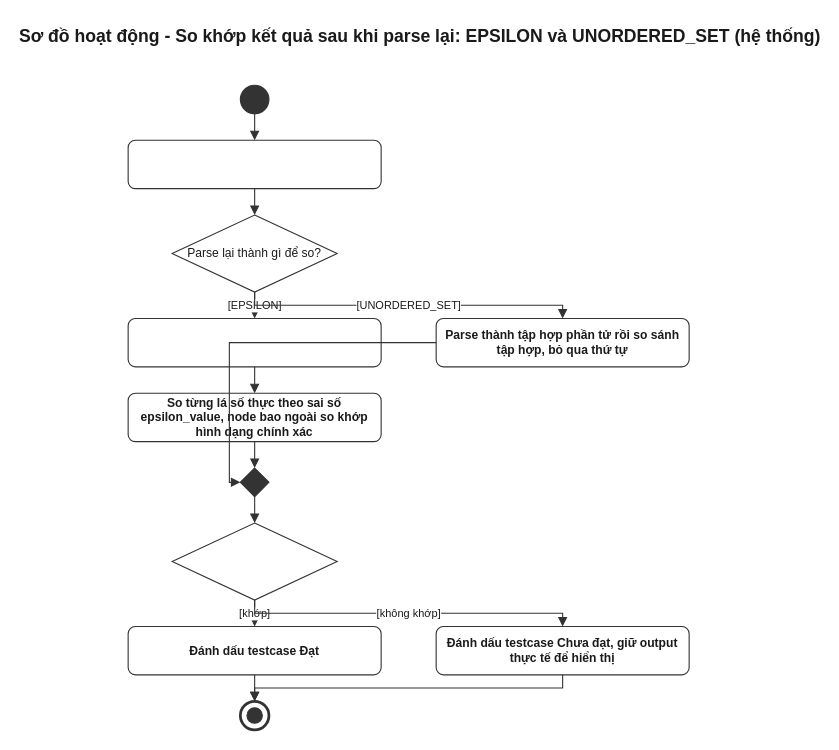
This 839x750 diagram has some shape labels left out. Here are the shapes that lost their labels. From the top down, the centre of each, then its label:
At point 254,164: "Nhận output đã chuẩn hoá và matching_strategy đã khai của bài".
At point 254,342: "Parse thành số, duyệt song song hai cấu trúc theo vị trí tương ứng".
At point 254,561: "Hai output khớp?".
